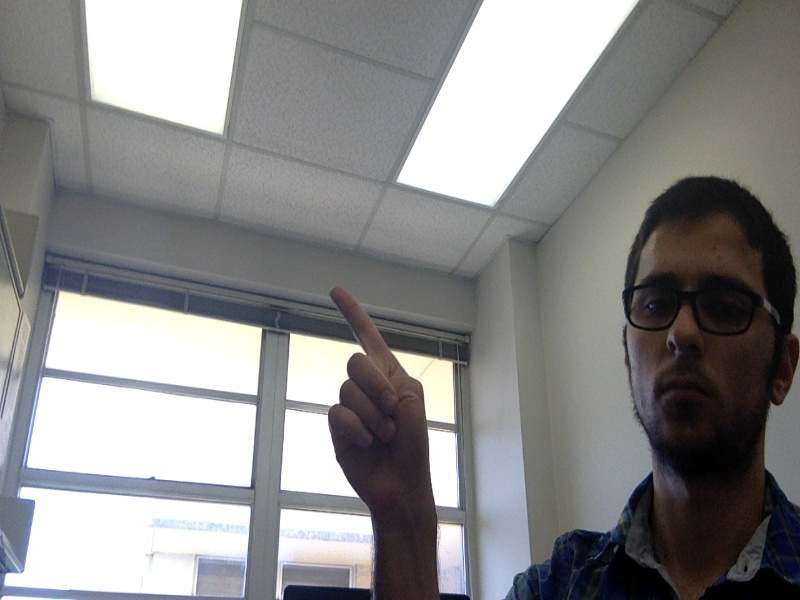1-hand: (324, 284, 436, 511)
